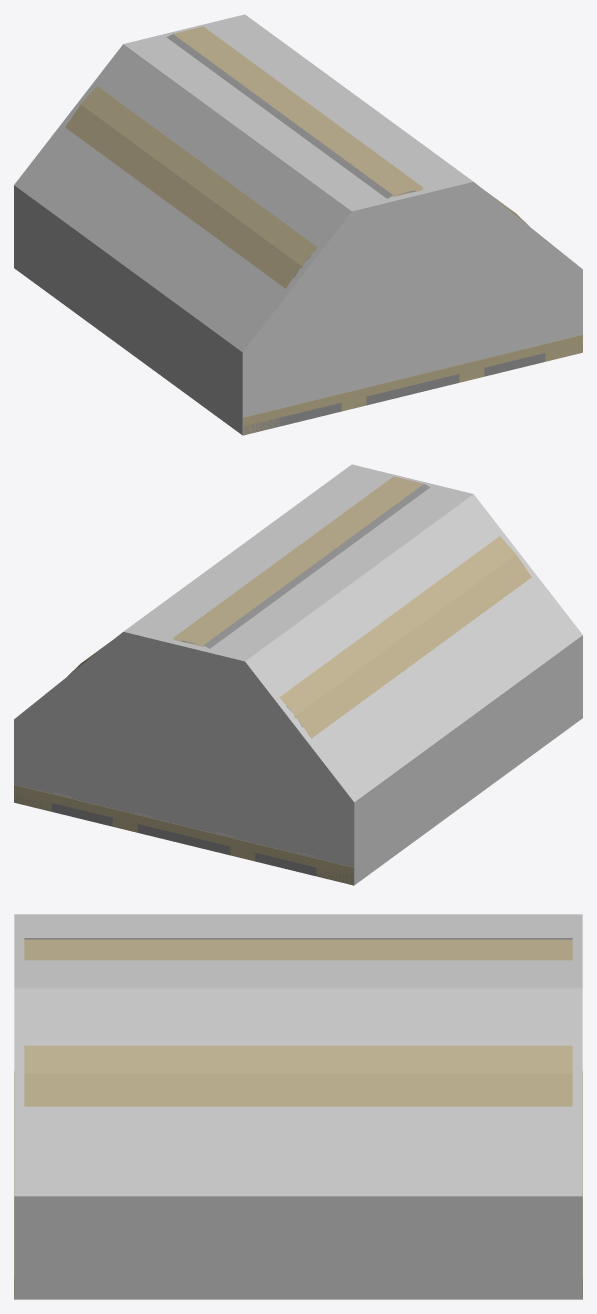
Rendered from eca_fv_lobstertrap_a.DAE.
3 renders of one model, top to bottom at view 1: azimuth 30°, elevation 25°; view 2: azimuth 150°, elevation 25°; view 3: azimuth 270°, elevation 25°, orthographic. The views are drawn at different scales.
Parts seen in each view (by area): view 1: Colmesh-1, eca_fv_lobstertrap_a40, eca_fv_lobstertrap_a10; view 2: Colmesh-1, eca_fv_lobstertrap_a40, eca_fv_lobstertrap_a10; view 3: Colmesh-1, eca_fv_lobstertrap_a40, eca_fv_lobstertrap_a10.
Part boxes in pixels (x1=…): Colmesh-1: x1=14, y1=14, x2=582, y2=435; eca_fv_lobstertrap_a40: x1=65, y1=26, x2=582, y2=435; eca_fv_lobstertrap_a10: x1=167, y1=34, x2=582, y2=435; Colmesh-1: x1=14, y1=464, x2=582, y2=885; eca_fv_lobstertrap_a40: x1=14, y1=476, x2=531, y2=885; eca_fv_lobstertrap_a10: x1=14, y1=484, x2=429, y2=885; Colmesh-1: x1=14, y1=914, x2=582, y2=1299; eca_fv_lobstertrap_a40: x1=14, y1=939, x2=582, y2=1299; eca_fv_lobstertrap_a10: x1=24, y1=938, x2=572, y2=939.
Bounding box in the file's own units: 0.6006 × 0.7 × 0.3363.
